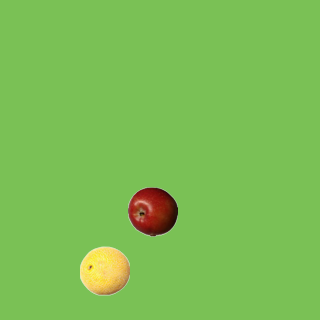Apple Braeburn: (127, 186, 177, 236)
Cantaloupe 1: (79, 245, 129, 295)
